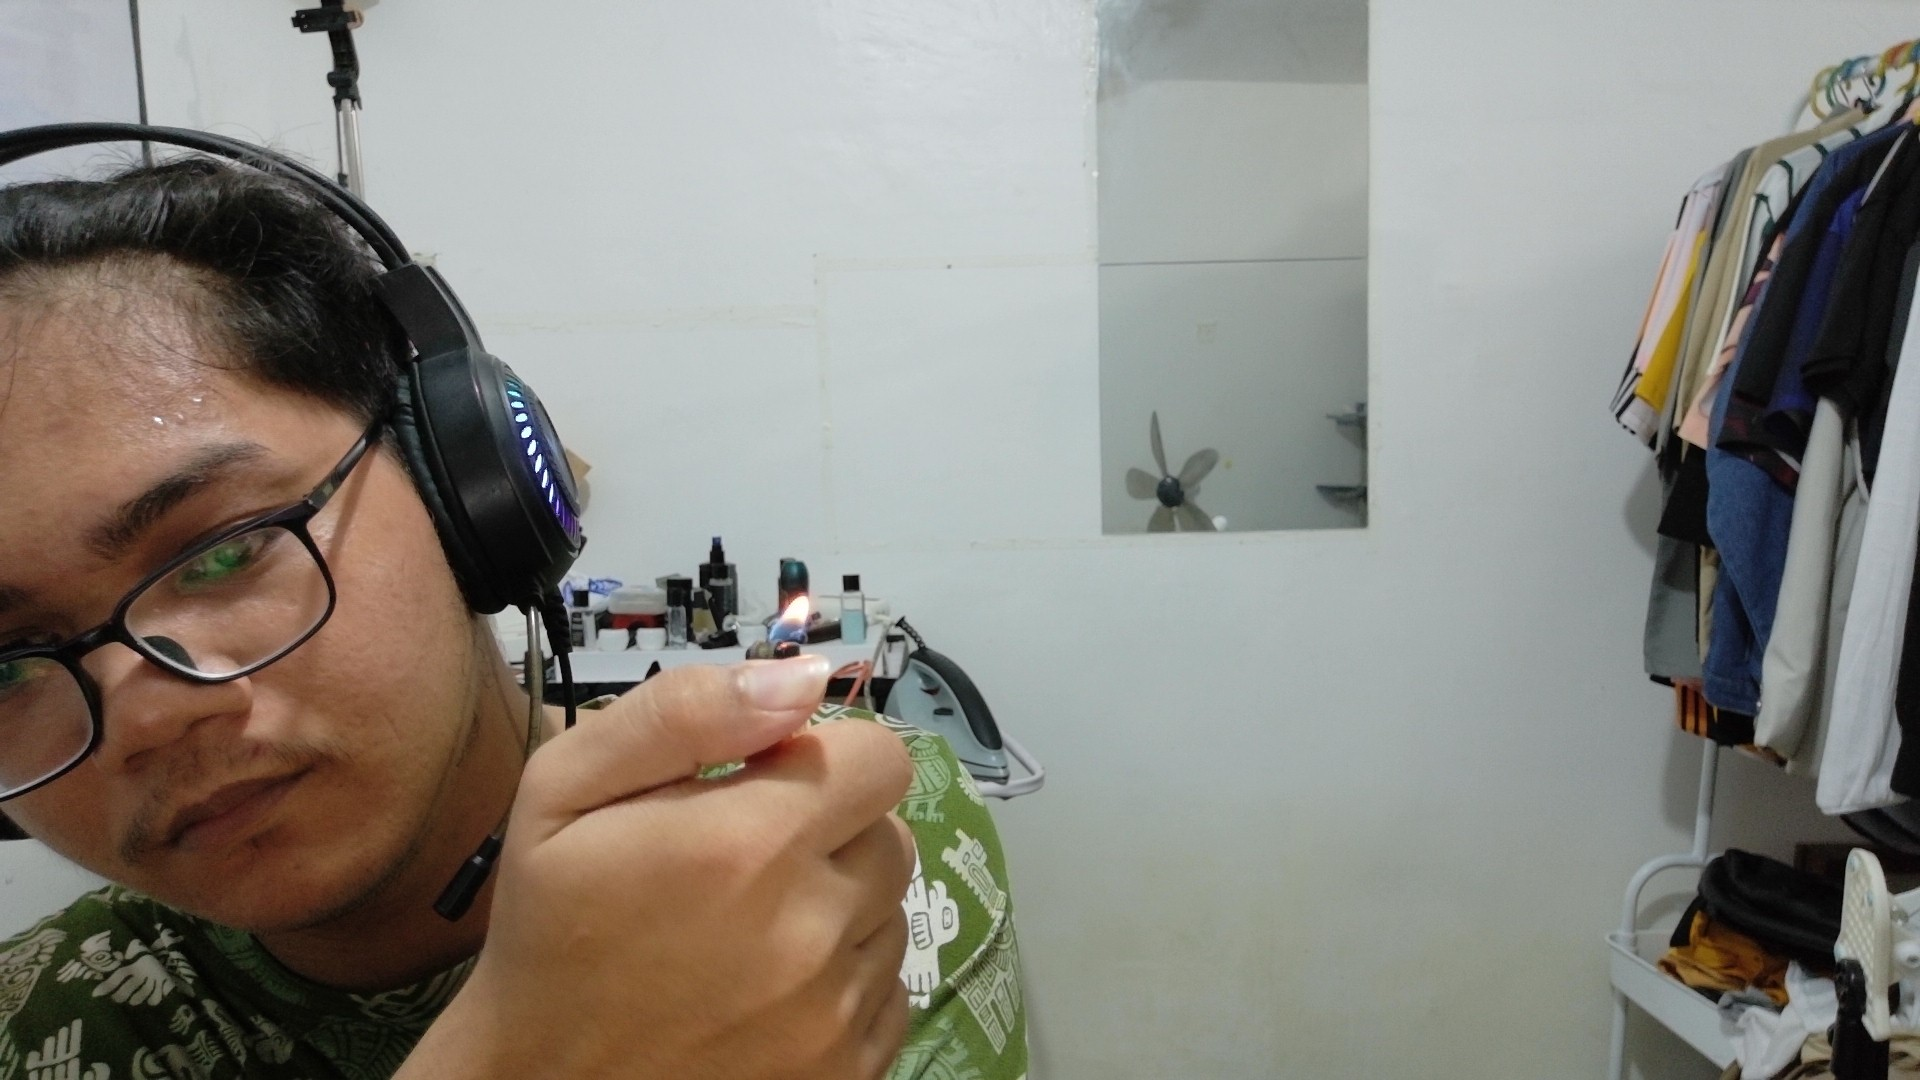fire: (734, 502, 884, 702)
